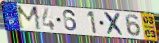1: (87, 11, 98, 35)
4: (42, 7, 57, 32)
6: (62, 9, 79, 34), (124, 14, 141, 38)
M: (16, 5, 43, 32)
X: (102, 12, 126, 37)
